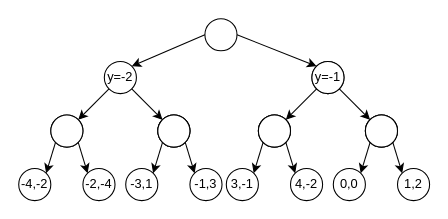
The diagram is 448 pixels wide and 219 high, and some of its shapes have lost their labels. Here are the shapes that lost their labels. From the top down, the centre of each, then its label:
At (220,34): "x=-1".
At (66,130): "x=-4".
At (173,130): "x=-2".
At (274,130): "x=3".
At (381,130): "x=0".
